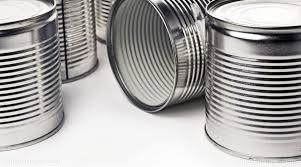Scrap metal: (192, 1, 300, 165), (0, 0, 90, 137), (109, 0, 190, 121), (44, 0, 104, 78)
